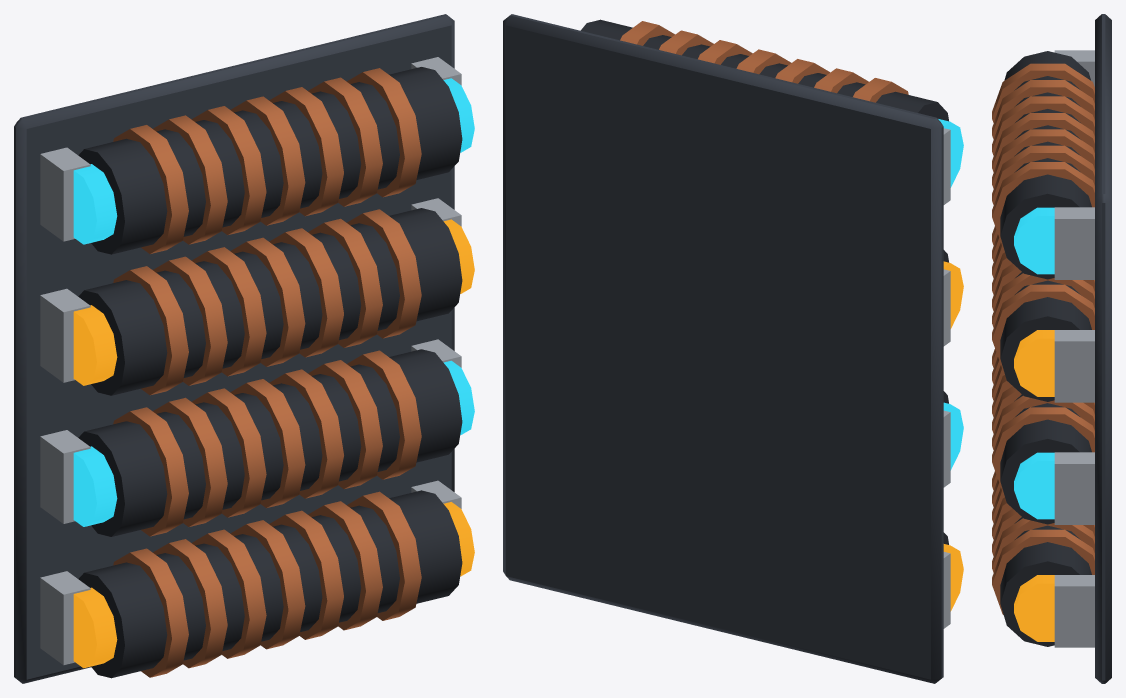
File: coil_wall_coil_bank.glb
3 renders of one model, left to right at view 1: azimuth 30°, elevation 25°; view 2: azimuth 150°, elevation 25°; view 3: azimuth 270°, elevation 25°, orthographic. The views are drawn at different scales.
Parts seen in each view (by area): view 1: coil_wall_coil_bank; view 2: coil_wall_coil_bank; view 3: coil_wall_coil_bank.
Boxes of the visible parts, x1,y1,x2,y2 form: coil_wall_coil_bank: [14, 14, 474, 683]; coil_wall_coil_bank: [503, 14, 963, 683]; coil_wall_coil_bank: [992, 14, 1111, 683].
Size of the model in its own units: 1.3 by 1.6 by 0.355.
